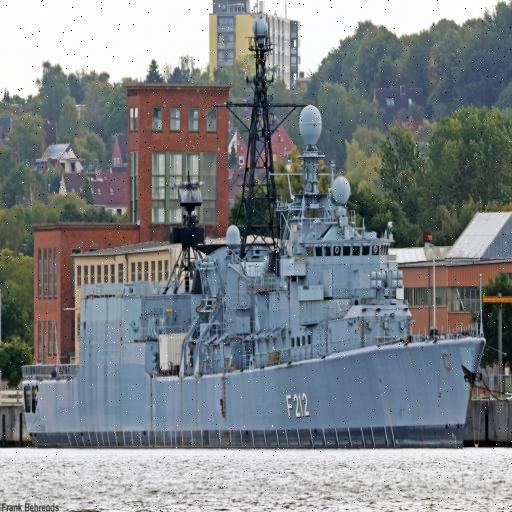Fragata: (12, 5, 488, 445)
